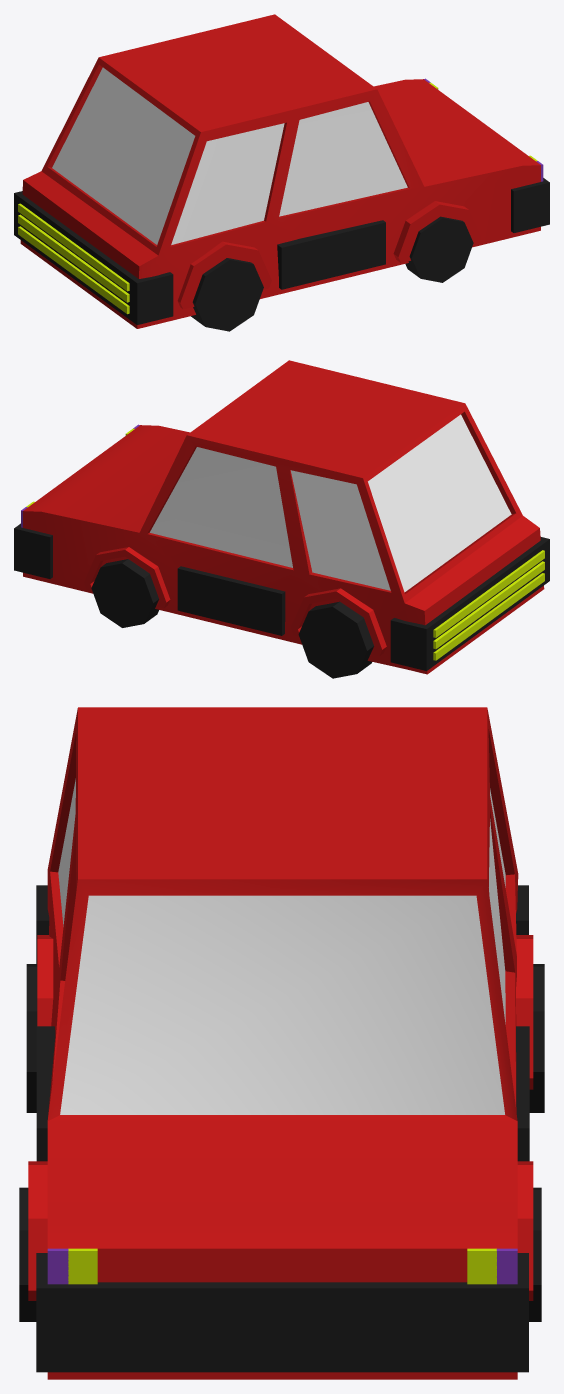
File: kart_ia.obj
3 renders of one model, top to bottom at view 1: azimuth 30°, elevation 25°; view 2: azimuth 150°, elevation 25°; view 3: azimuth 270°, elevation 25°, orthographic. The views are drawn at different scales.
Parts seen in each view (by area): view 1: Cubo; view 2: Cubo; view 3: Cubo.
Part boxes in pixels (x1,y1,x2,y2): Cubo: (14, 14, 549, 331); Cubo: (14, 360, 549, 678); Cubo: (19, 707, 544, 1379).
Size of the model in its own units: 42.81 by 19.25 by 23.44.
